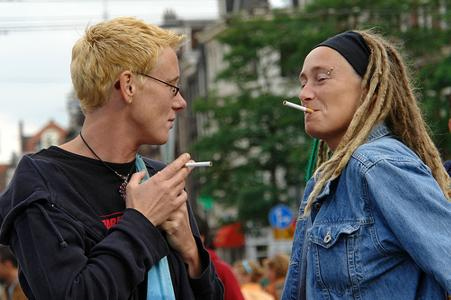person: (282, 31, 450, 300)
